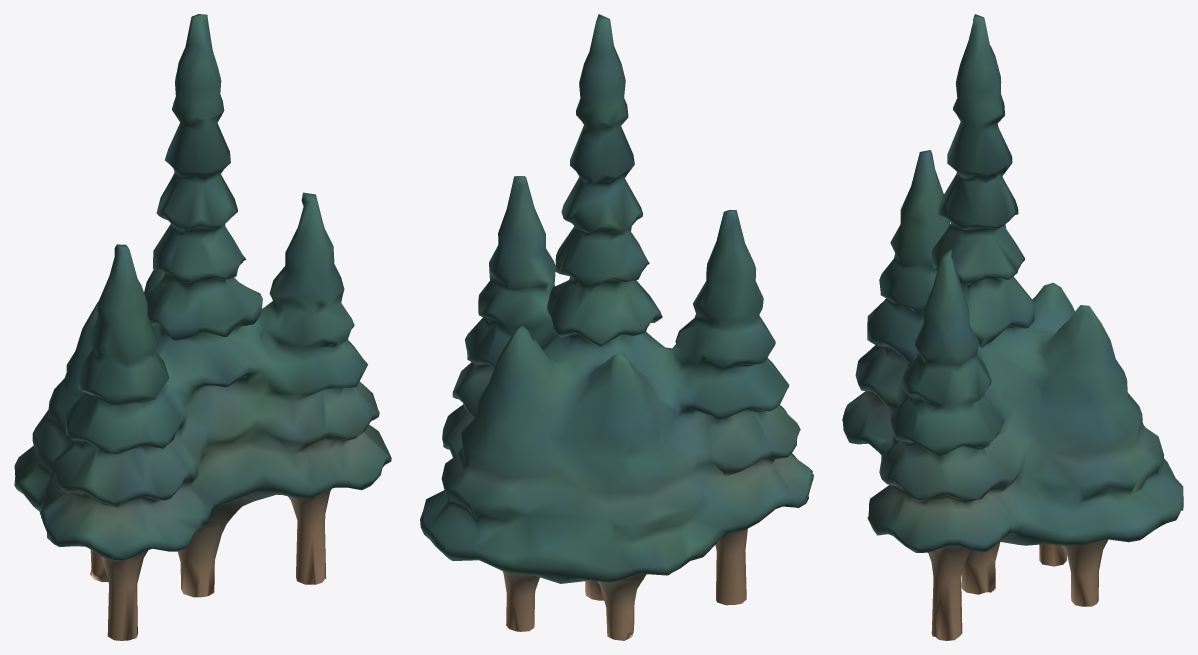
The model's file is cluster2.glb.
The picture shows the model from 3 angles, left to right: view 1: azimuth 30°, elevation 25°; view 2: azimuth 150°, elevation 25°; view 3: azimuth 270°, elevation 25°; orthographic projection.
Visible parts, largest first — view 1: body; view 2: body; view 3: body.
Boxes of the visible parts, left/top/right/bottom form: body: left=14, top=14, right=391, bottom=640; body: left=420, top=14, right=813, bottom=640; body: left=842, top=14, right=1183, bottom=640.
Size of the model in its own units: 7.33 by 11.9 by 6.44.
